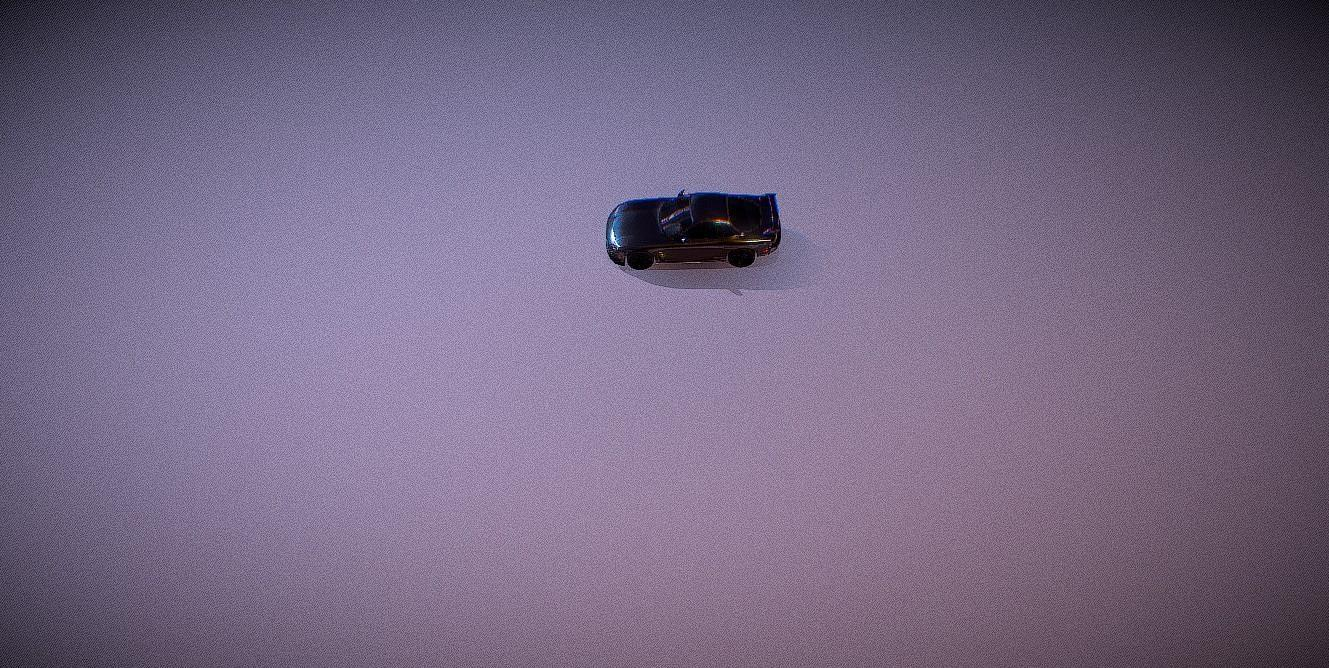Car: (604, 189, 781, 271)
